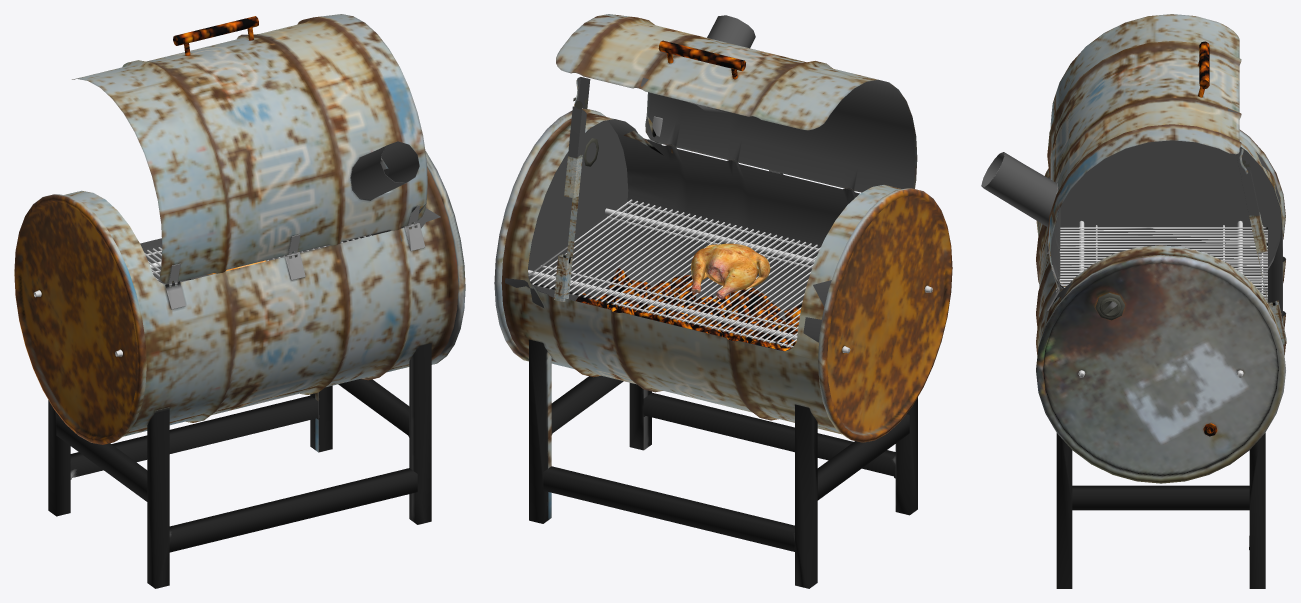
Rendered from BarbeQ.fbx.
The picture shows the model from 3 angles, left to right: view 1: azimuth 30°, elevation 25°; view 2: azimuth 150°, elevation 25°; view 3: azimuth 270°, elevation 25°; orthographic projection. The views are drawn at different scales.
Visible parts, largest first — view 1: polySurface29; view 2: polySurface29, polySurface389, manrig_rotisserie_chicken; view 3: polySurface29.
Boxes of the visible parts, x1,y1,x2,y2 form: polySurface29: (14, 14, 465, 588); polySurface29: (494, 14, 952, 588); polySurface389: (576, 268, 801, 350); manrig_rotisserie_chicken: (691, 243, 770, 299); polySurface29: (981, 14, 1286, 588).
Bounding box in the file's own units: 1.52 × 2.1 × 1.26.
3 materials, 3 textured.
